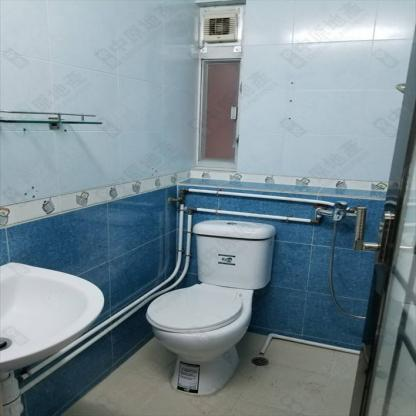Exhaust Fan: (201, 9, 238, 43)
Toilet: (145, 218, 275, 397)
Toilet Sink: (1, 261, 104, 371)
